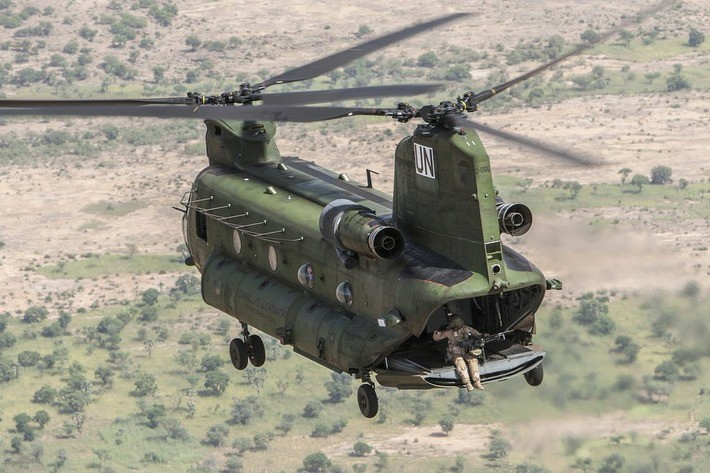chinook: (97, 45, 615, 418)
